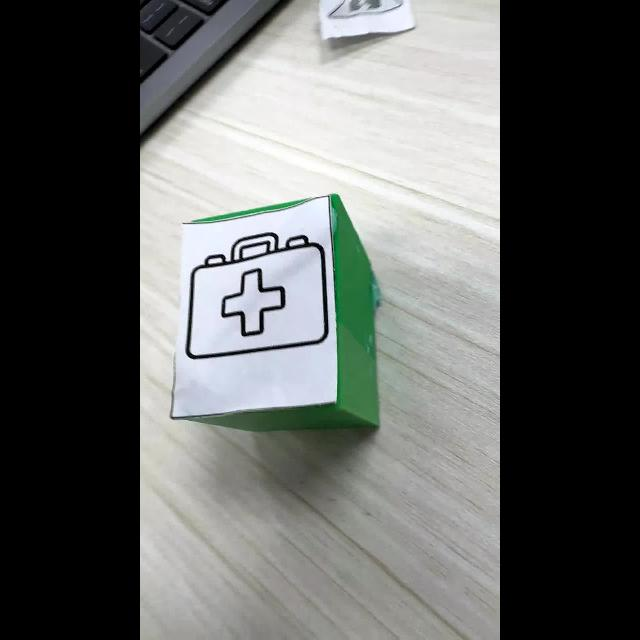Medkit: (185, 233, 329, 360)
